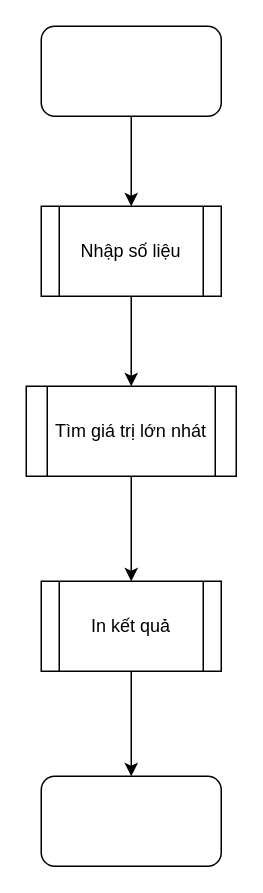
Some shapes in this 263 by 893 pixel diagram are drawn without their labels. The shapes that lost their labels are listed below. From the top down, each one's box as (x1, y1, x2, y2) in pixels, then its label:
(40, 25, 221, 116): Bắt đàu
(40, 775, 221, 866): Kết thúc
